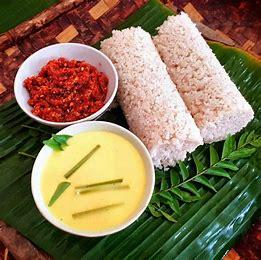Pittu: (105, 13, 252, 150)
